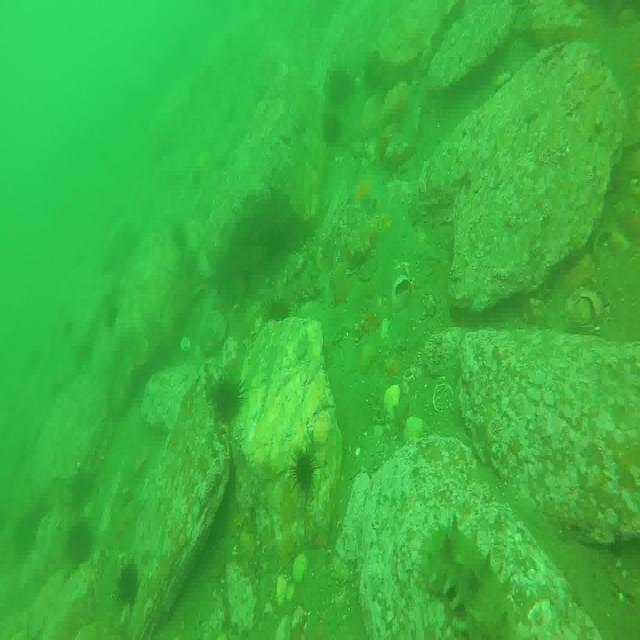echinus: (216, 373, 245, 421), (69, 515, 95, 566), (330, 66, 358, 113), (293, 450, 319, 495), (118, 560, 141, 606), (324, 106, 342, 146)
holothurian: (422, 519, 519, 640)
starfish: (352, 171, 387, 218)
